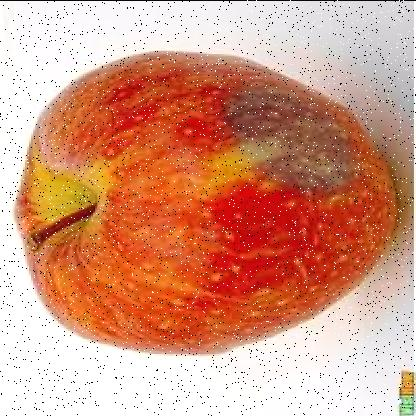damaged_apple: (19, 48, 393, 356)
